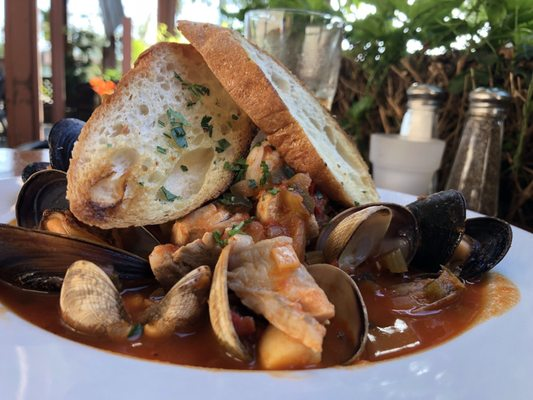soup: (57, 20, 380, 297)
